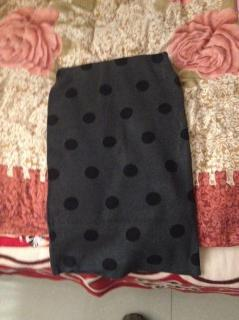skirt: (46, 53, 201, 279)
